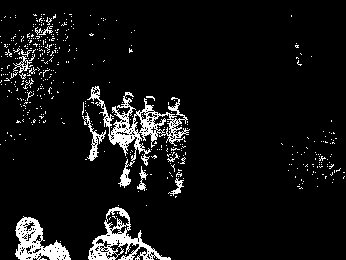person: (89, 207, 168, 260), (161, 97, 190, 197), (110, 89, 138, 186), (16, 214, 68, 260), (136, 96, 160, 190), (81, 84, 108, 160)
